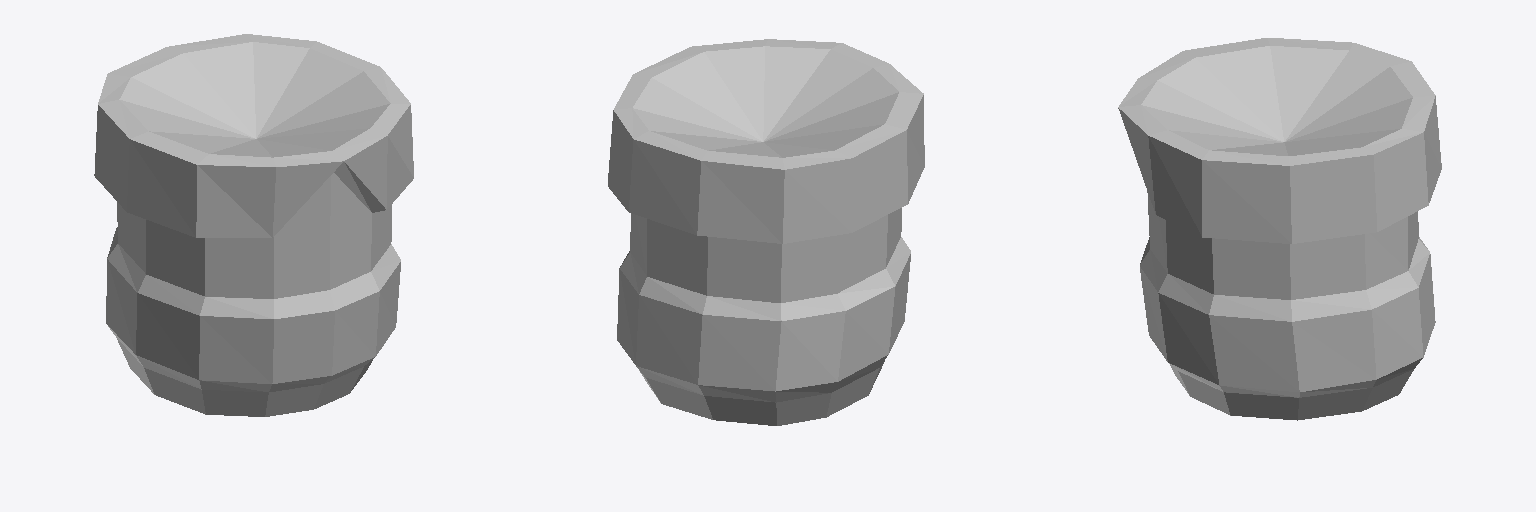
The model's file is legDL.obj.
The picture shows the model from 3 angles: view 1: azimuth 30°, elevation 25°; view 2: azimuth 150°, elevation 25°; view 3: azimuth 270°, elevation 25°; orthographic projection.
Parts seen in each view (by area): view 1: legDL legDL_mat6, legDL legDL_mat3, legDL_mat7 legDL; view 2: legDL legDL_mat6, legDL legDL_mat3, legDL_mat7 legDL; view 3: legDL legDL_mat6, legDL legDL_mat3, legDL_mat7 legDL.
Boxes of the visible parts, box(x1,y1,x2,y2) form: legDL legDL_mat6: box(94, 34, 413, 237); legDL legDL_mat3: box(106, 227, 400, 392); legDL_mat7 legDL: box(117, 173, 391, 416); legDL legDL_mat6: box(608, 39, 924, 243); legDL legDL_mat3: box(617, 237, 910, 402); legDL_mat7 legDL: box(630, 208, 901, 425); legDL legDL_mat6: box(1118, 38, 1441, 243); legDL legDL_mat3: box(1140, 237, 1435, 397); legDL_mat7 legDL: box(1147, 191, 1418, 420).
Bounding box in the file's own units: 0.2171 × 0.24 × 0.2261.